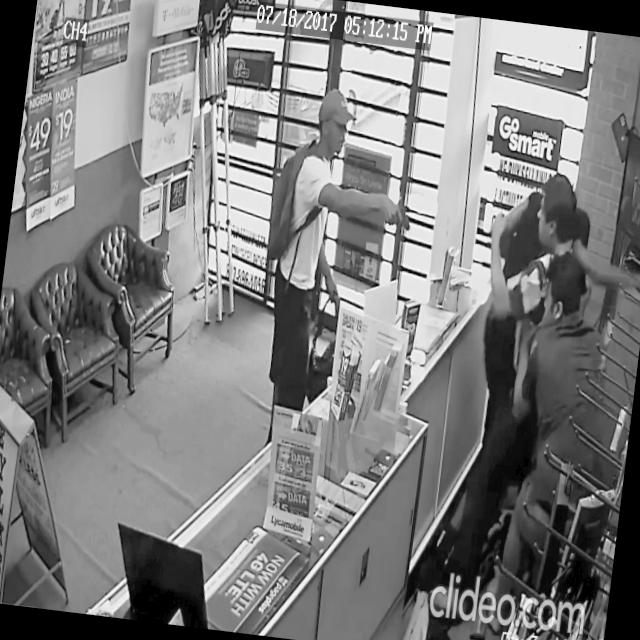gun: (392, 200, 414, 232)
person: (450, 177, 640, 601), (477, 242, 625, 640), (458, 163, 618, 518)
person with a gun: (241, 80, 428, 473)
